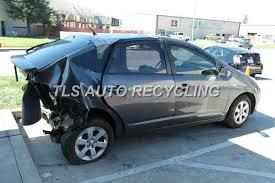doorouter-dent: (182, 82, 226, 119)
rear-bumper-dent: (38, 95, 75, 132)
